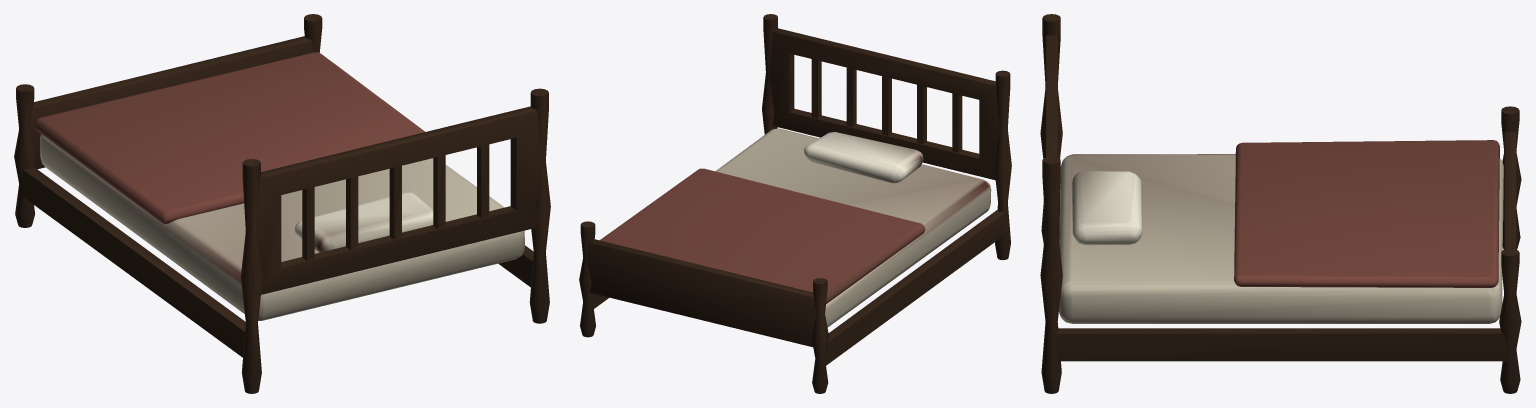
File: Bed.glb
3 views of the same model, side by side, from view 1: azimuth 30°, elevation 25°; view 2: azimuth 150°, elevation 25°; view 3: azimuth 270°, elevation 25° (orthographic). The views are drawn at different scales.
Visible parts, largest first — view 1: Bed_wood_dark, Bed_quilt, Bed_linen, Bed_cloth_white; view 2: Bed_wood_dark, Bed_quilt, Bed_linen, Bed_cloth_white; view 3: Bed_quilt, Bed_linen, Bed_wood_dark, Bed_cloth_white.
Boxes of the visible parts, <box> form: Bed_wood_dark: <box>14,14,550,393</box>; Bed_quilt: <box>34,52,424,223</box>; Bed_linen: <box>40,134,524,320</box>; Bed_cloth_white: <box>294,191,433,252</box>; Bed_wood_dark: <box>579,14,1011,393</box>; Bed_quilt: <box>600,168,925,303</box>; Bed_linen: <box>715,128,991,327</box>; Bed_cloth_white: <box>803,132,923,183</box>; Bed_quilt: <box>1234,140,1499,287</box>; Bed_linen: <box>1059,154,1503,323</box>; Bed_wood_dark: <box>1040,14,1521,393</box>; Bed_cloth_white: <box>1071,171,1142,245</box>.
Bounding box in the file's own units: 7.04 × 5 × 9.44.
